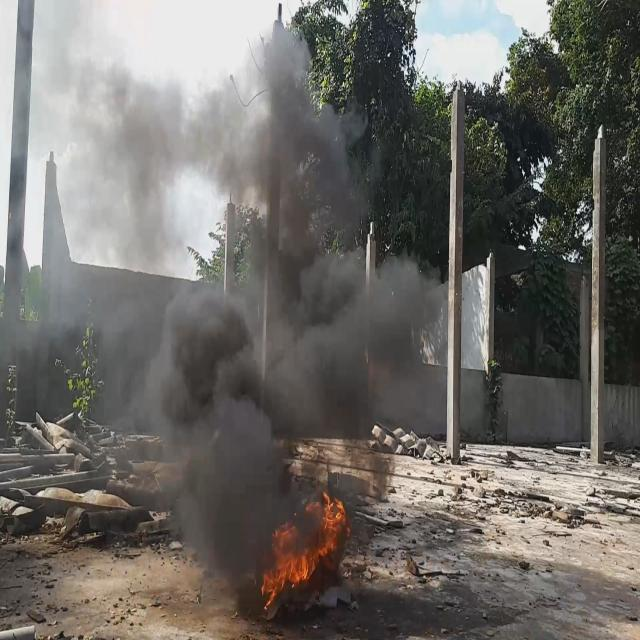Fire: (258, 480, 351, 610)
Smoke: (0, 0, 433, 599)
